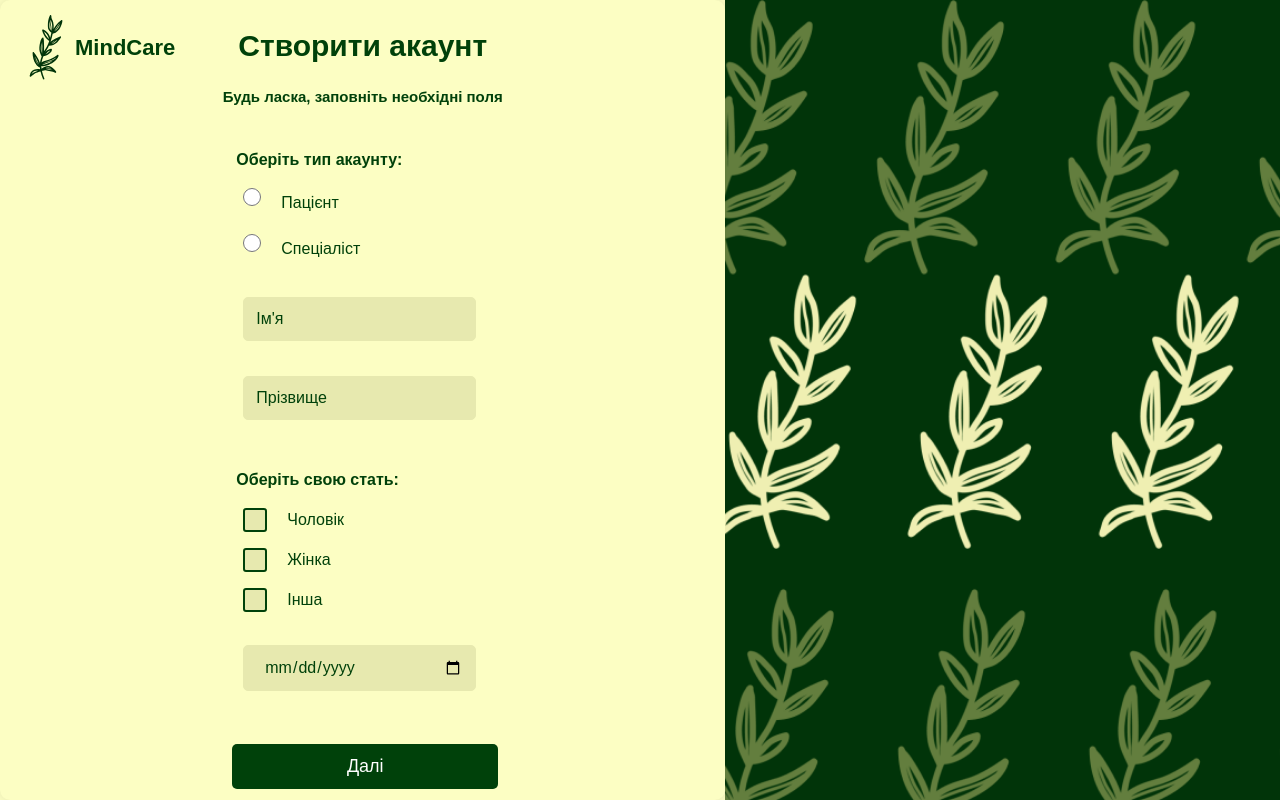
Test case: CreateAccount › shows validation error when role is not selected on step 1
Click the button "Далі".
click(365, 767)  # box [232,744,498,789]
(page scrolled)
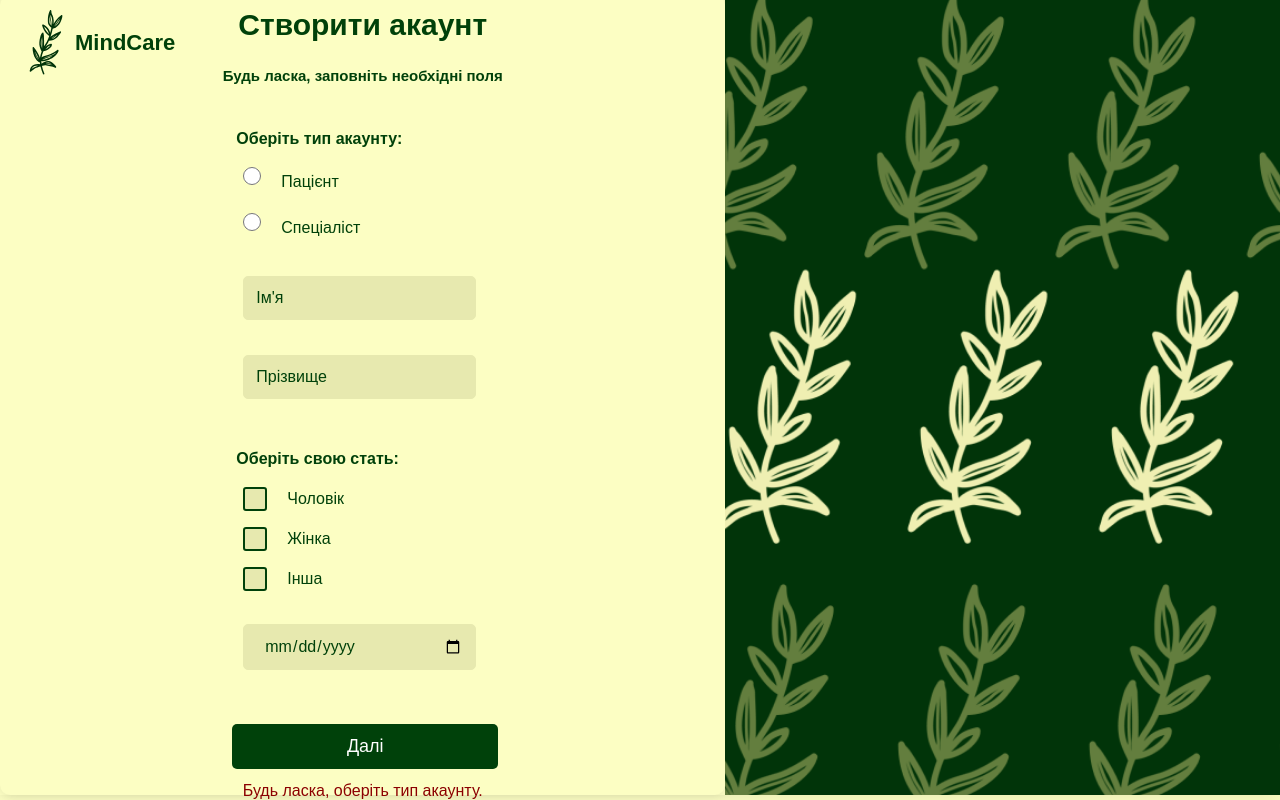
Check: the text "Будь ласка, оберіть тип акаунту." is shown, box [243,782,483,799]
